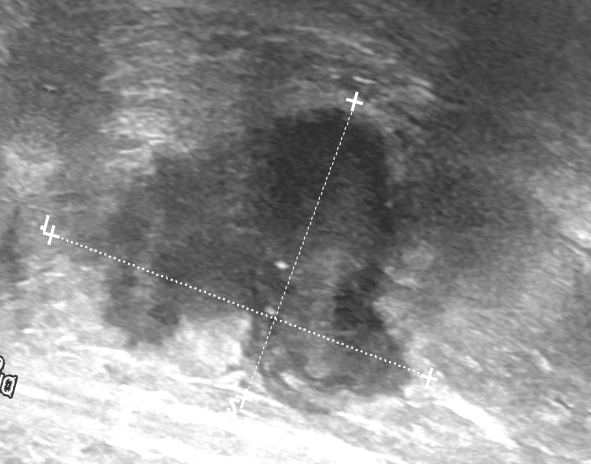Benign: (90, 111, 438, 385)
